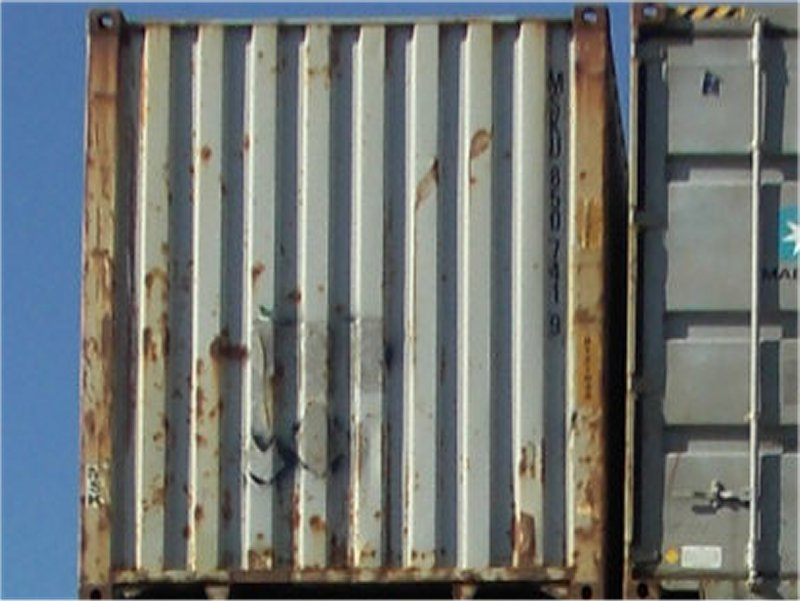container_no_door: (85, 8, 608, 599)
